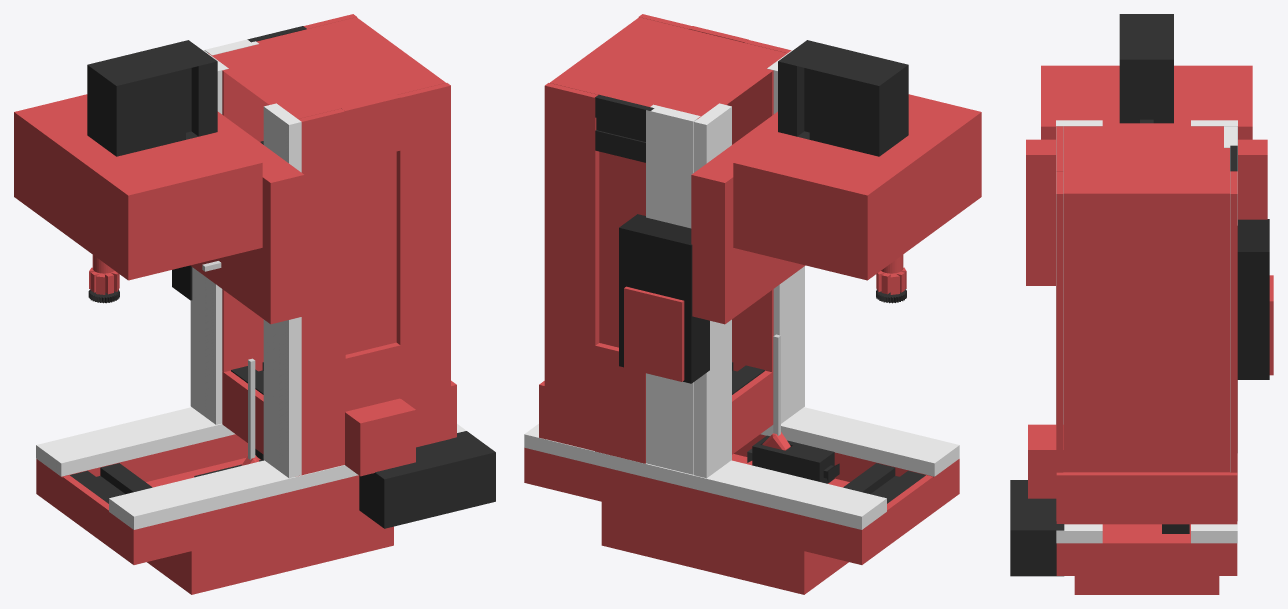
File: Punch_Station.glb
3 renders of one model, left to right at view 1: azimuth 30°, elevation 25°; view 2: azimuth 150°, elevation 25°; view 3: azimuth 270°, elevation 25°, orthographic. The views are drawn at different scales.
Visible parts, largest first — view 1: Cube.006, Cube.013, Torre Horizontal, Cube.015, Cube.025, Torre estática, Cube.022, Cube.011, Cube.009, Cube.032, Cube.026, Cube.031 (+8 smaller); view 2: Cube.006, Cube.013, Cube.019, Cube.025, Torre estática, Cube.012, Cube.026, Cube.007, Cube.032, Cube.010, Cube.009, Cube.023 (+9 smaller); view 3: Cube.013, Cube.006, Cube.020, Cube.025, Cube.007, Cube.031, Cube.022, Torre estática, Cube.019, Torre Horizontal, Cube.017, Cube.032 (+6 smaller).
Boxes of the visible parts, bbox=[...] form: Cube.006: bbox=[14, 94, 304, 324]; Cube.013: bbox=[208, 17, 445, 423]; Torre Horizontal: bbox=[396, 83, 450, 447]; Cube.015: bbox=[298, 108, 345, 476]; Cube.025: bbox=[36, 434, 359, 564]; Torre estática: bbox=[147, 510, 393, 594]; Cube.022: bbox=[359, 431, 495, 528]; Cube.011: bbox=[263, 103, 301, 478]; Cube.009: bbox=[109, 424, 466, 529]; Cube.032: bbox=[87, 52, 166, 156]; Cube.026: bbox=[36, 407, 235, 476]; Cube.031: bbox=[138, 40, 217, 144]; Cube.006: bbox=[691, 94, 981, 324]; Cube.013: bbox=[550, 17, 786, 371]; Cube.019: bbox=[544, 83, 599, 450]; Cube.025: bbox=[524, 434, 959, 564]; Torre estática: bbox=[601, 502, 848, 594]; Cube.012: bbox=[646, 104, 700, 474]; Cube.026: bbox=[524, 424, 886, 529]; Cube.007: bbox=[619, 214, 709, 383]; Cube.032: bbox=[828, 52, 908, 156]; Cube.010: bbox=[694, 103, 731, 478]; Cube.009: bbox=[760, 407, 959, 476]; Cube.023: bbox=[595, 343, 645, 463]; Cube.013: bbox=[1063, 123, 1229, 472]; Cube.006: bbox=[1026, 65, 1267, 285]; Cube.020: bbox=[1056, 472, 1237, 524]; Cube.025: bbox=[1056, 524, 1237, 575]; Cube.007: bbox=[1237, 219, 1269, 379]; Cube.031: bbox=[1119, 37, 1173, 123]; Cube.022: bbox=[1010, 480, 1064, 576]; Torre estática: bbox=[1074, 576, 1219, 594]; Cube.019: bbox=[1230, 171, 1237, 520]; Torre Horizontal: bbox=[1056, 171, 1063, 520]; Cube.017: bbox=[1028, 424, 1063, 498]; Cube.032: bbox=[1119, 14, 1173, 36].
Bounding box in the file's own units: 10.41 × 14.25 × 7.3.
